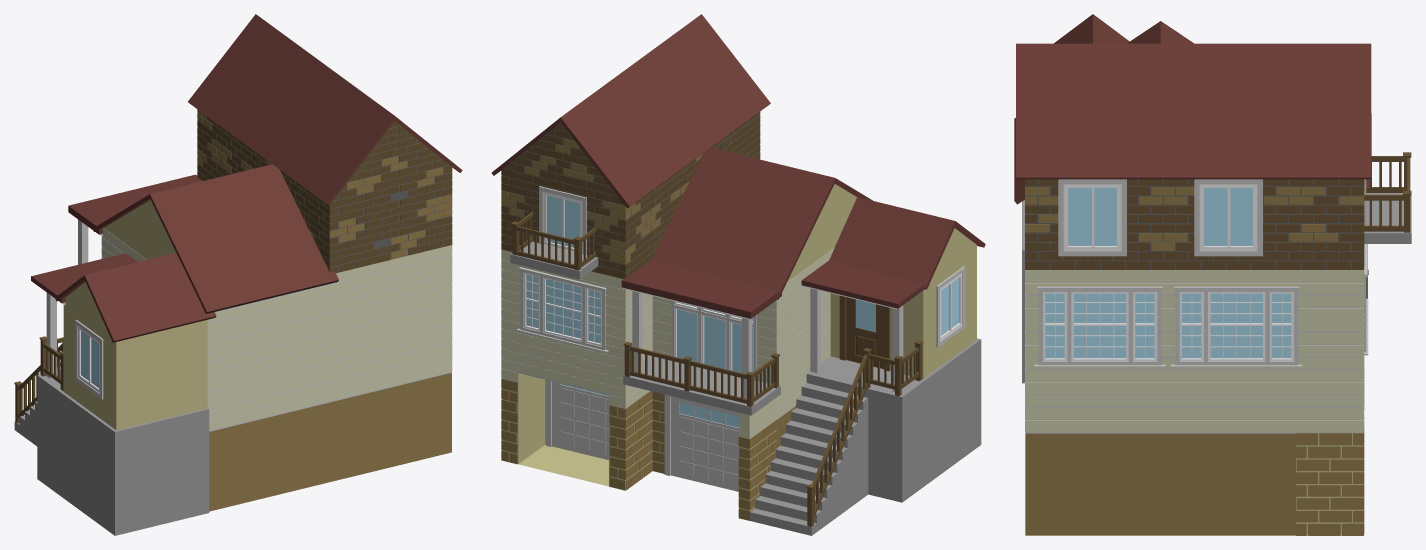
Rendered from house2-transformed.glb.
3 views of the same model, side by side, from view 1: azimuth 30°, elevation 25°; view 2: azimuth 150°, elevation 25°; view 3: azimuth 270°, elevation 25° (orthographic). The views are drawn at different scales.
Parts seen in each view (by area): view 1: building.048; view 2: building.048; view 3: building.048.
Boxes of the visible parts, x1,y1,x2,y2 form: building.048: [14, 14, 462, 535]; building.048: [491, 14, 985, 535]; building.048: [1014, 14, 1411, 535].
Bounding box in the file's own units: 11.4 × 11.1 × 8.8.
Materials: 1 (1 with a texture image).
